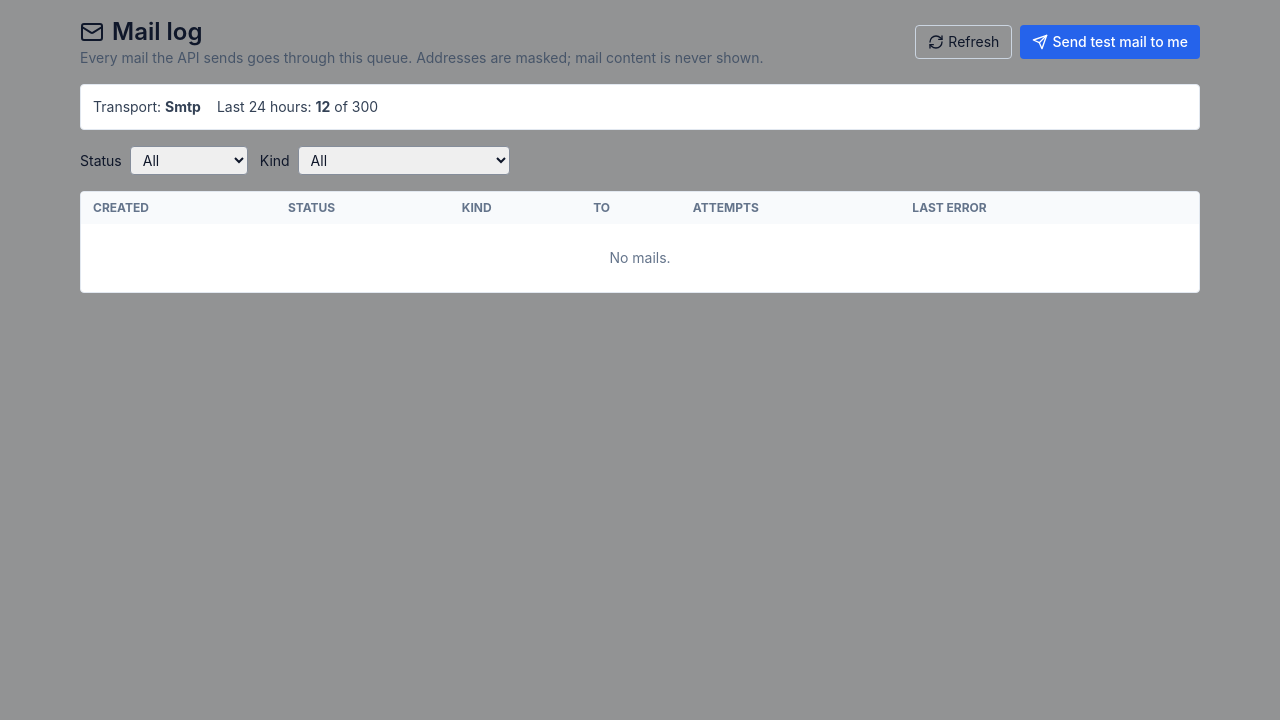
EmailLogPage › sends a test mail and shows the result
Click the button "Send test mail to me".
click(1110, 42)  # box [1020,25,1200,59]
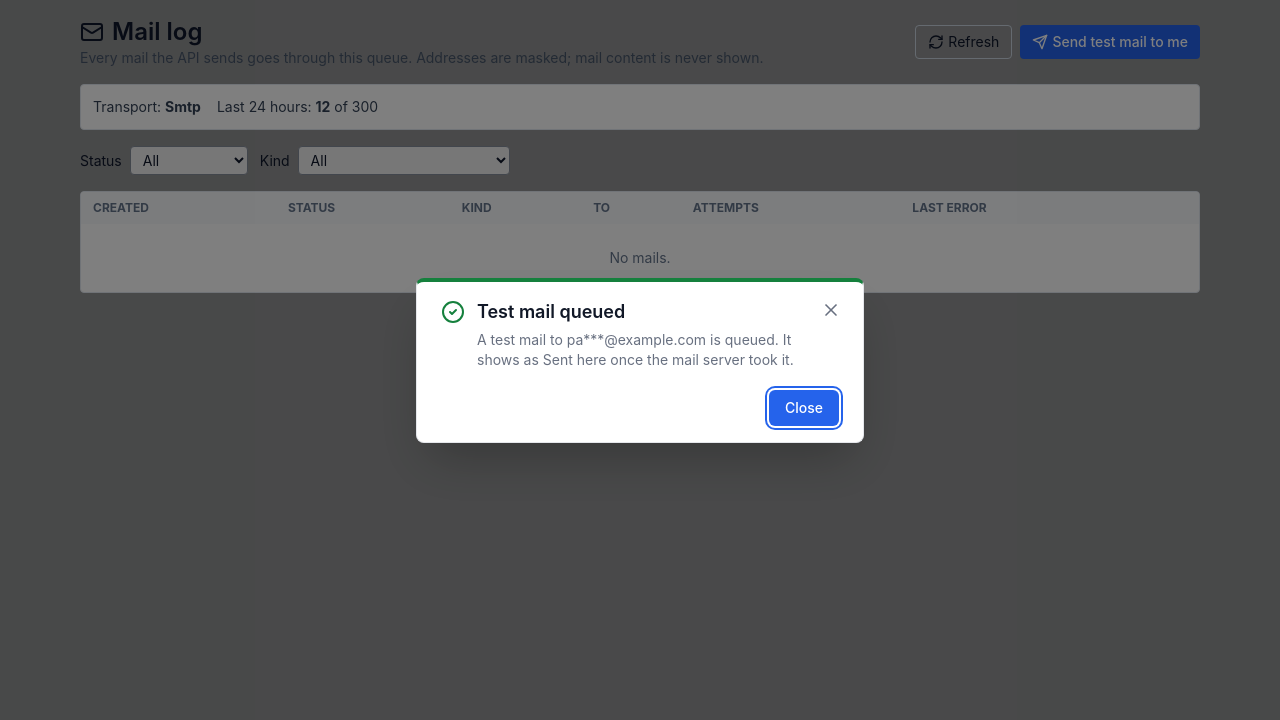
Result: the heading "Test mail queued" is shown at [477,300,625,322]
Result: the text "A test mail to pa***@example.com is queued" is shown at [477,330,794,368]
